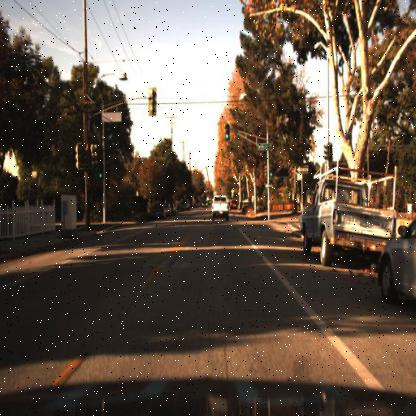car: (298, 157, 398, 266), (293, 164, 379, 272), (376, 205, 416, 312), (208, 189, 230, 227), (147, 200, 168, 227), (199, 199, 210, 211)
trafficLight-Green: (267, 158, 275, 183), (223, 120, 231, 142), (223, 126, 230, 146), (266, 167, 274, 182), (94, 170, 102, 184)
